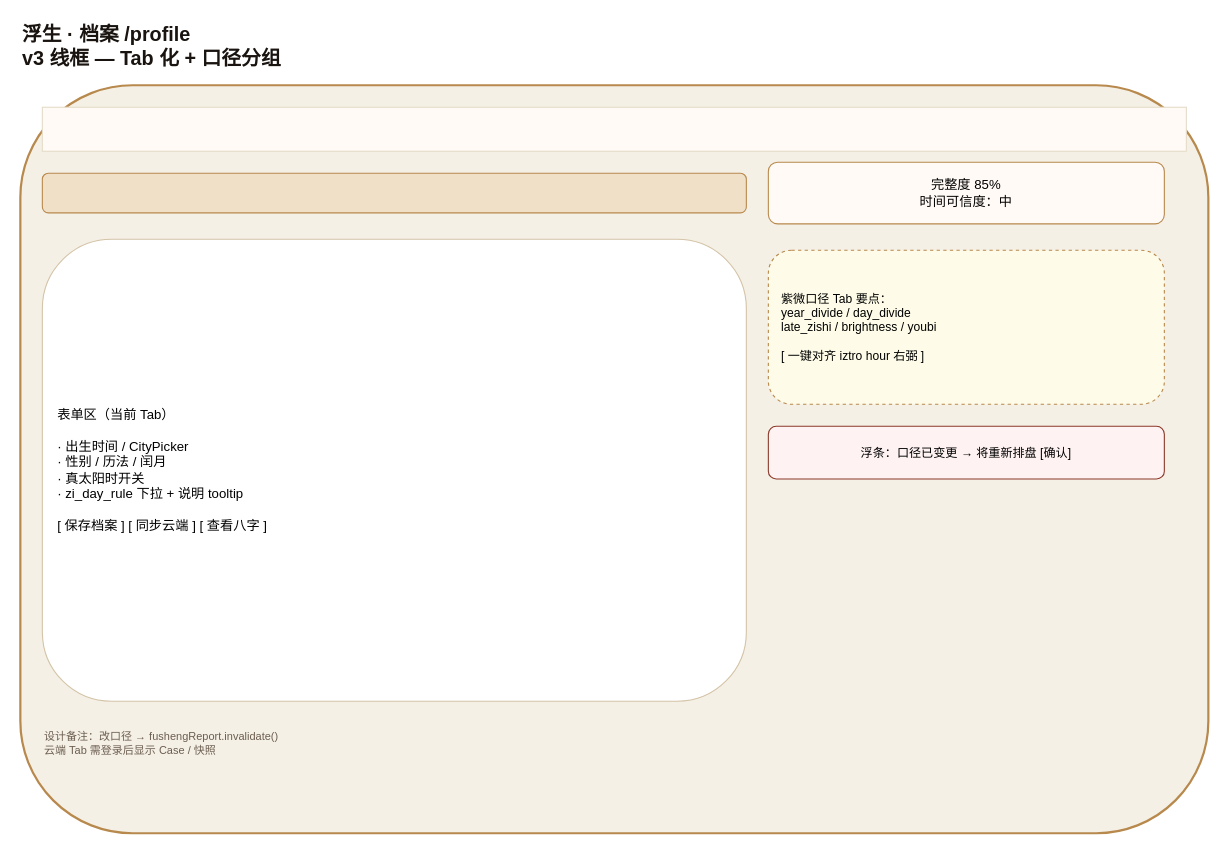
The diagram is 1228 pixels wide and 853 high, and some of its shapes have lost their labels. Each missing label, with the box of its shape:
[ 基础 ] [ 八字口径 ] [ 紫微口径 ] [ 高级▼ ] [ 云端 ]: (41, 172, 746, 213)
顶栏：首页 | 档案● | 八字 | 紫微 | 报告: (41, 106, 1186, 151)
